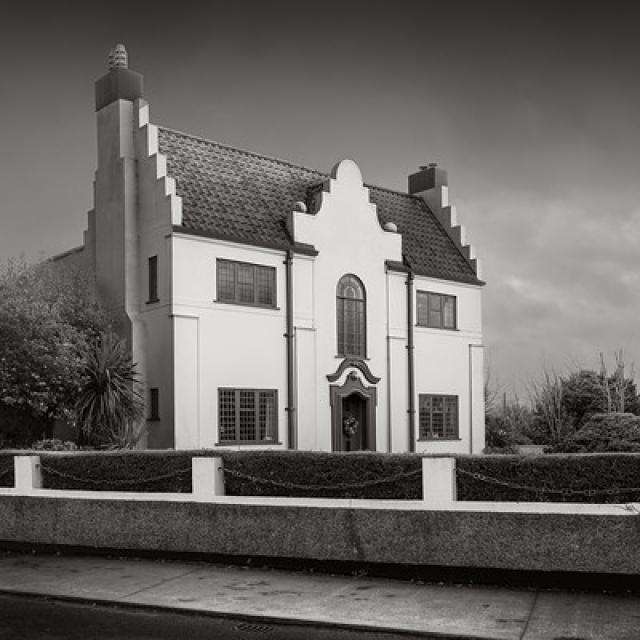building: (72, 39, 490, 460)
